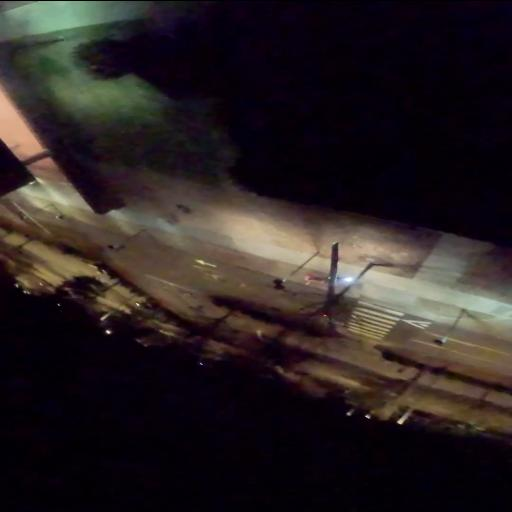uav: (313, 240, 356, 318)
